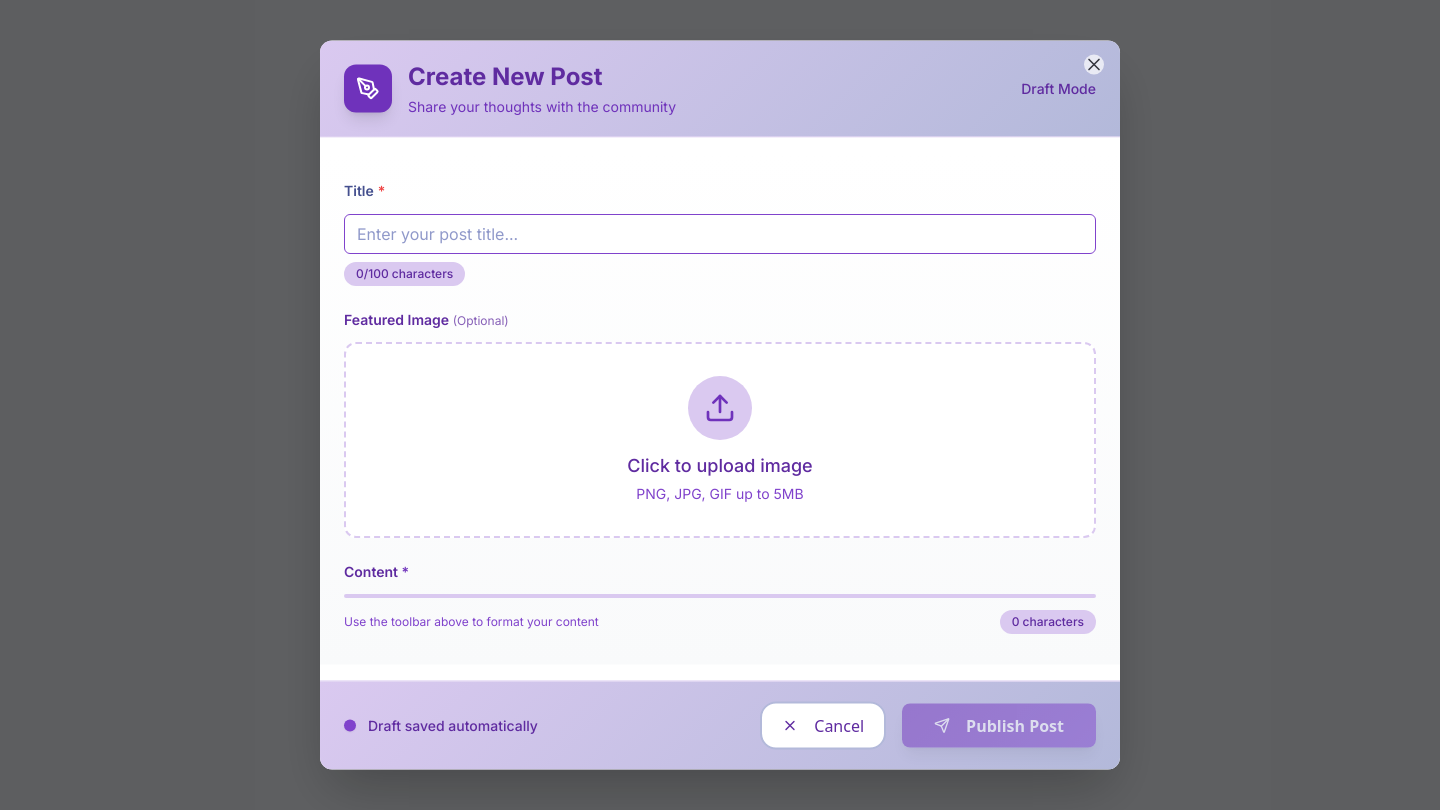
Test: CreatePostModal › Modal Closing › shows confirmation modal when closing with unsaved changes
This screenshot has width=1440, height=810.
Type "Changed Title" into the field labelled "Title*" at (720, 234), box [357,222,1083,244]
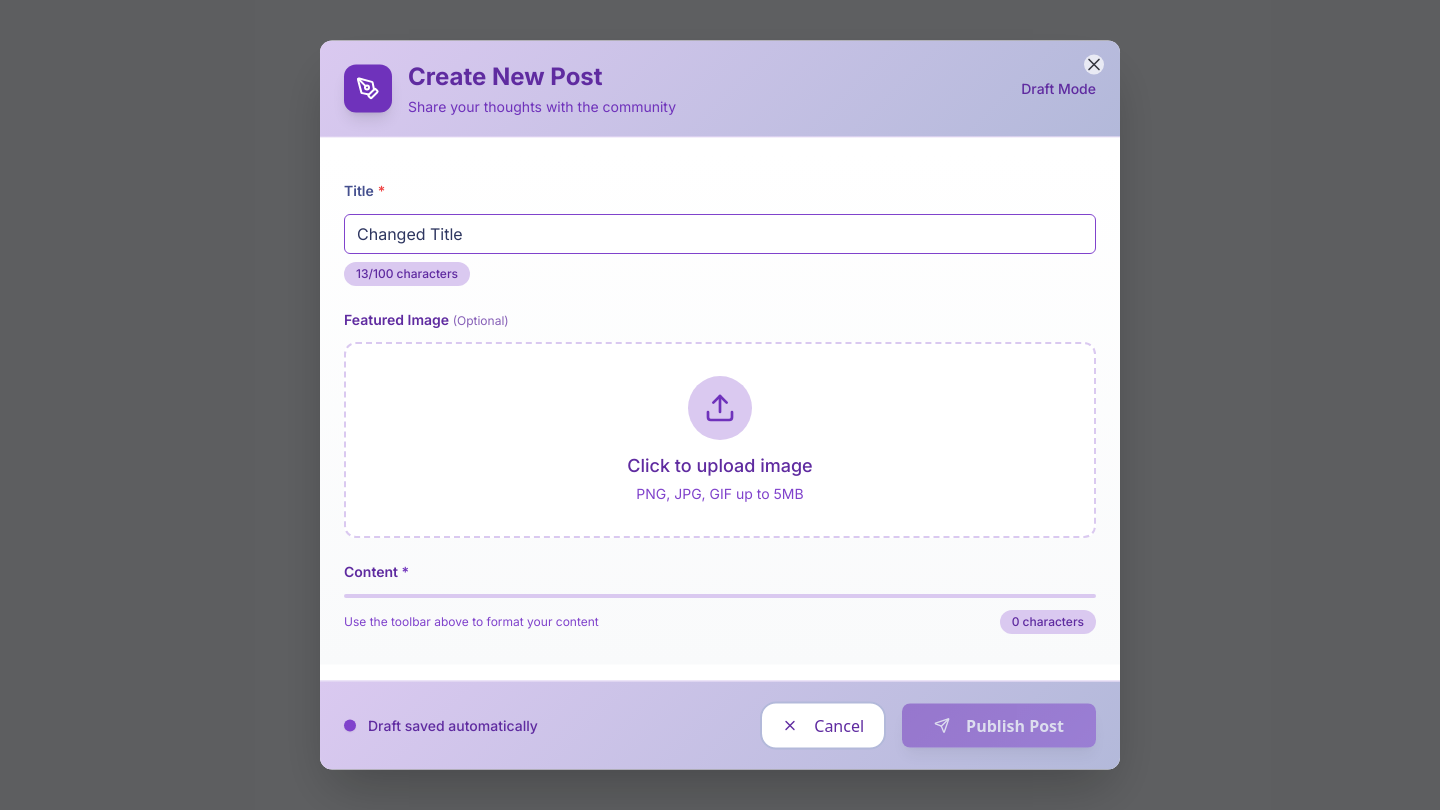
Click the button "Cancel" at (823, 726), box [760,702,886,750]
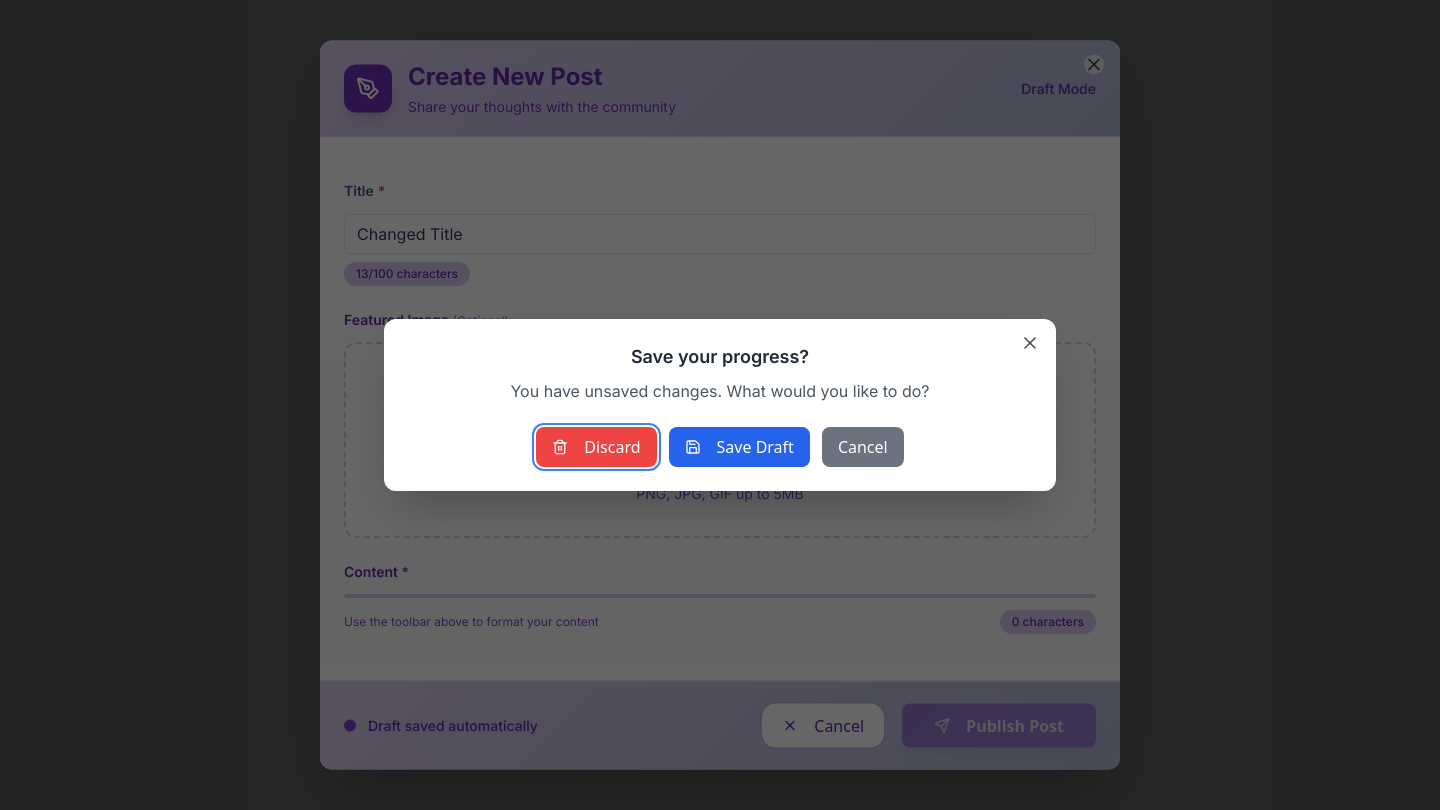
Result: the heading "Save your progress?" is shown at [631,346,809,367]
Result: the text "You have unsaved changes. What would you like to do?" is shown at [510,381,930,401]
